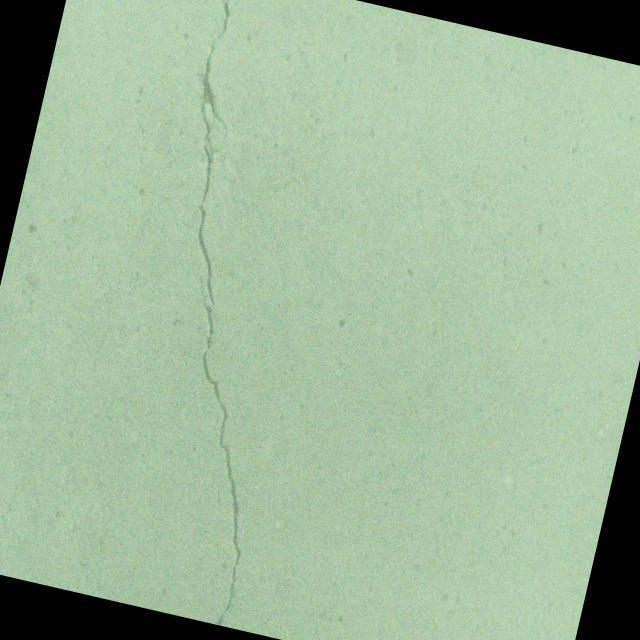crack: (71, 0, 372, 627), (24, 369, 96, 464), (62, 532, 112, 598)
